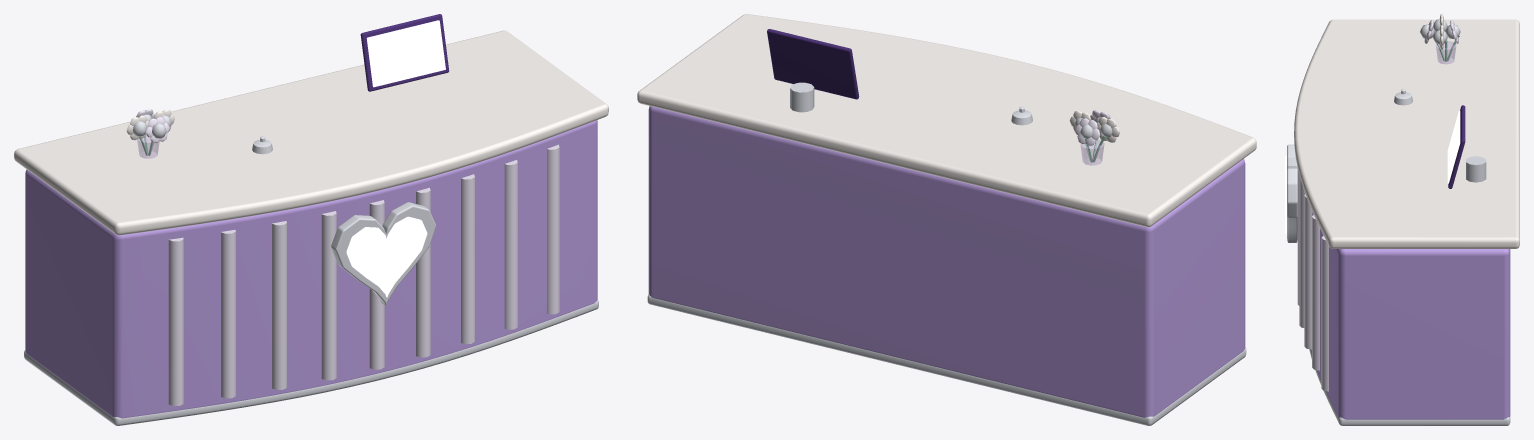
File: reception_desk_curved.glb
3 renders of one model, left to right at view 1: azimuth 30°, elevation 25°; view 2: azimuth 150°, elevation 25°; view 3: azimuth 270°, elevation 25°, orthographic. The views are drawn at different scales.
Visible parts, largest first — view 1: reception_desk_curved; view 2: reception_desk_curved; view 3: reception_desk_curved.
Part boxes in pixels (<box>): reception_desk_curved: <box>14,14,608,425</box>; reception_desk_curved: <box>637,14,1256,425</box>; reception_desk_curved: <box>1285,14,1519,425</box>.
Bounding box in the file's own units: 2.45 × 1.27 × 1.1.
